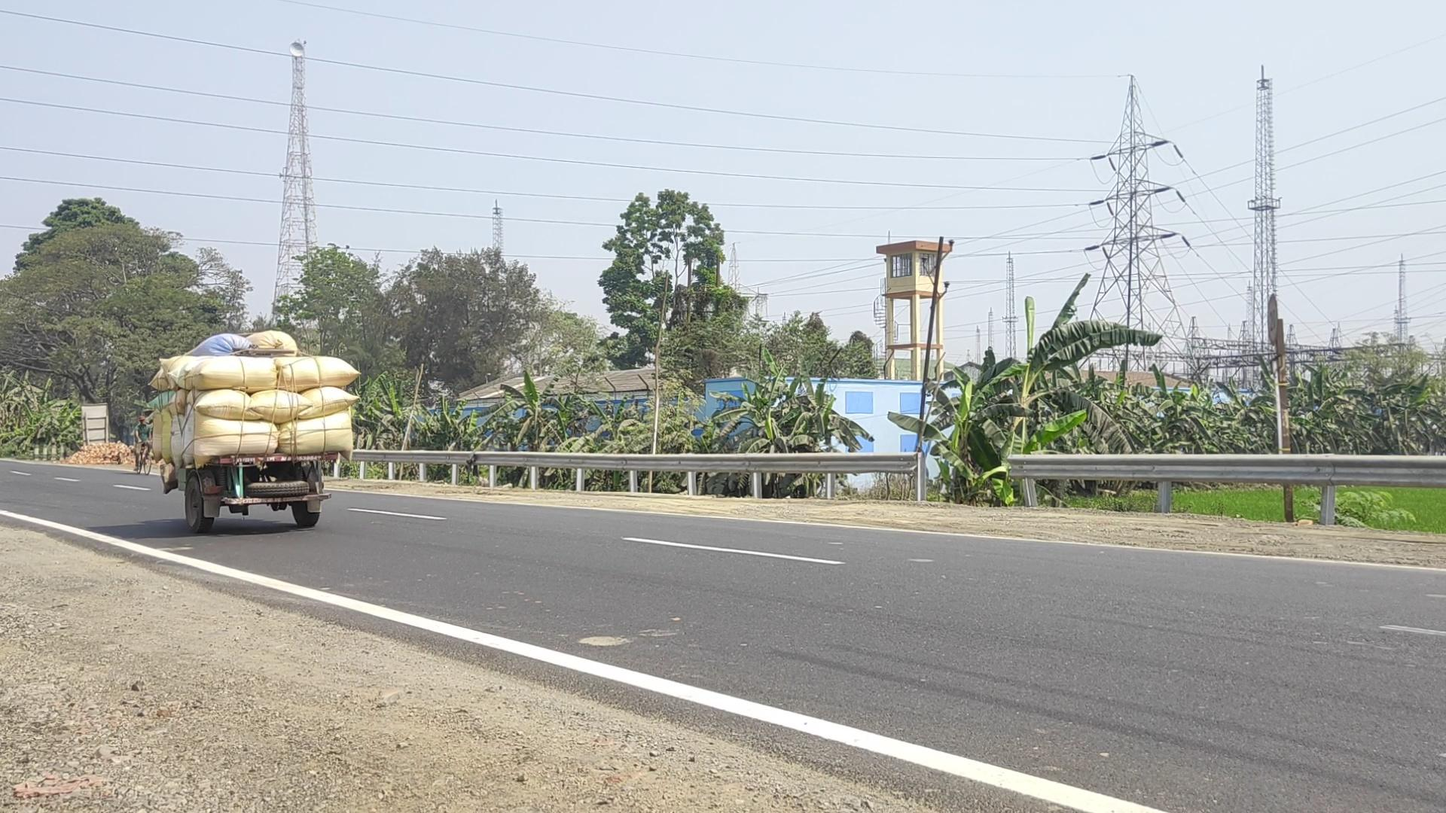bike: (133, 416, 153, 476)
